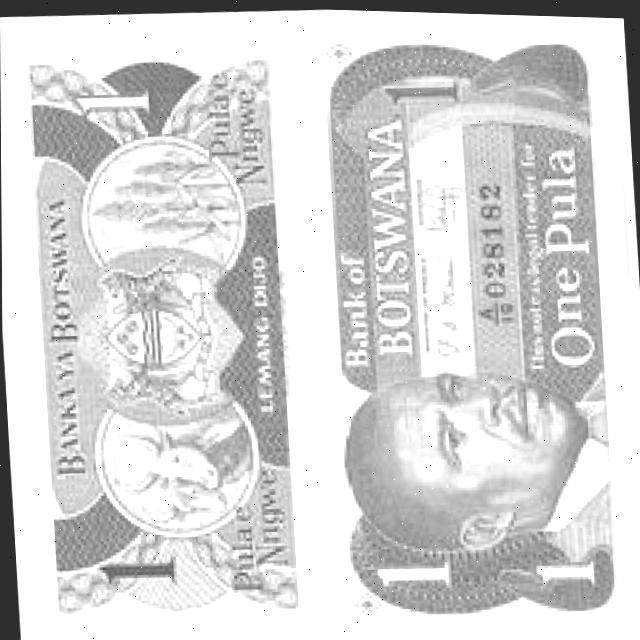banknote: (301, 7, 640, 640), (20, 49, 299, 624)
